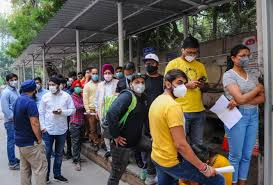mask: (168, 69, 190, 99), (179, 37, 199, 65), (19, 79, 39, 99), (234, 45, 252, 67), (143, 54, 159, 75), (130, 75, 146, 94), (123, 61, 135, 81), (47, 77, 60, 94), (101, 64, 113, 82), (7, 75, 20, 88), (72, 80, 83, 94), (89, 65, 99, 80), (115, 66, 124, 79), (83, 67, 89, 80)
